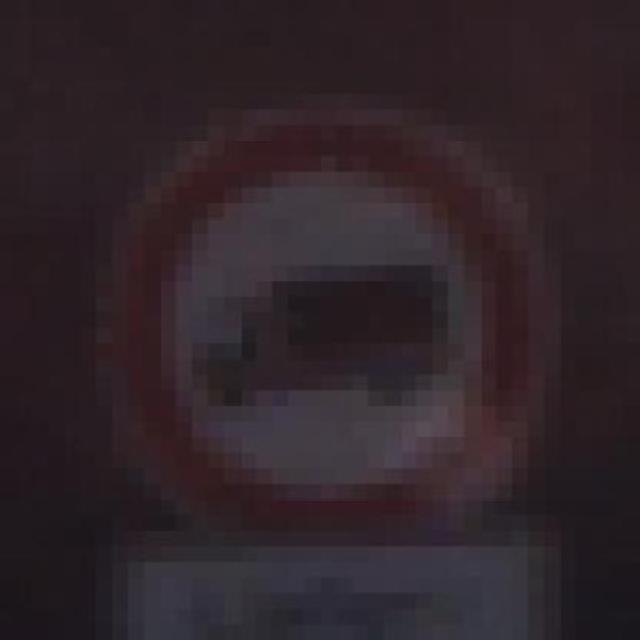Truck traffic is prohibited: (64, 109, 576, 562)
